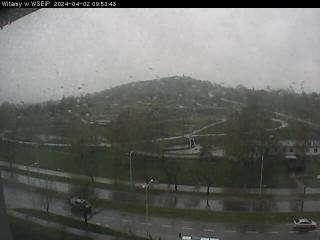car: (292, 216, 319, 231), (68, 195, 92, 211)
